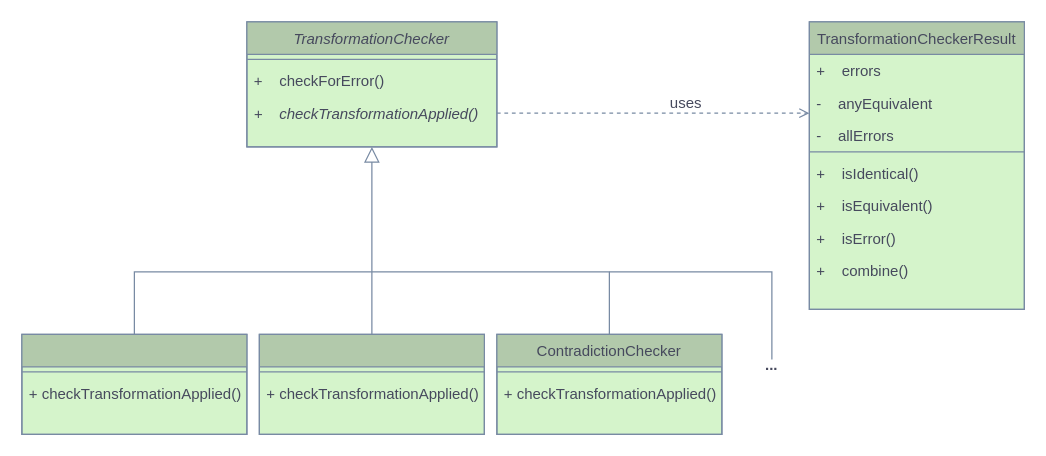
Image size: 1046x456. Some labels were removed from this diagram. The box of each missing label's shape, as (x1, y1, x2, y2) in pixels:
DistributivityChecker: (21, 333, 247, 434)
ExcludedMiddleChecker: (258, 333, 484, 434)
